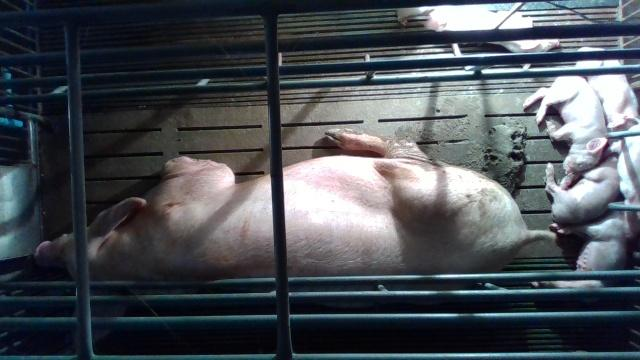piglet: (528, 211, 640, 291), (524, 75, 609, 171), (424, 6, 561, 53), (543, 153, 618, 226), (575, 45, 640, 118), (605, 120, 640, 220)
sow-sleep: (32, 125, 558, 356)
